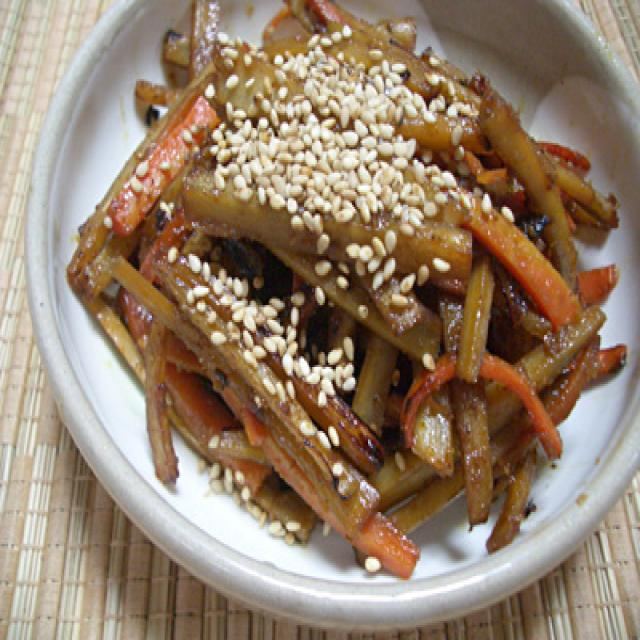蔬菜料理: (38, 2, 616, 600)
